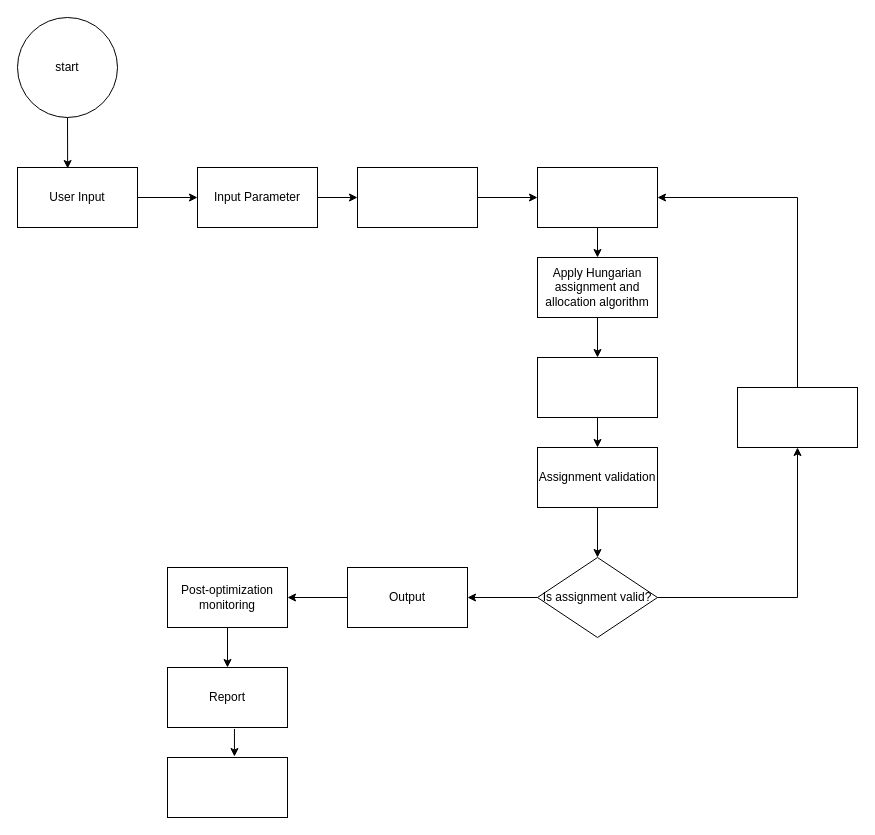
This 875x835 diagram has some shape labels left out. Here are the shapes that lost their labels. From the top down, the box of each, then its label:
(356, 166, 478, 228): Optimization method
(536, 166, 658, 228): Calculate Cost Matrix
(536, 356, 658, 418): Optimal assignment of employees to tasks
(736, 386, 858, 448): Re-optimize
(166, 756, 288, 818): End
